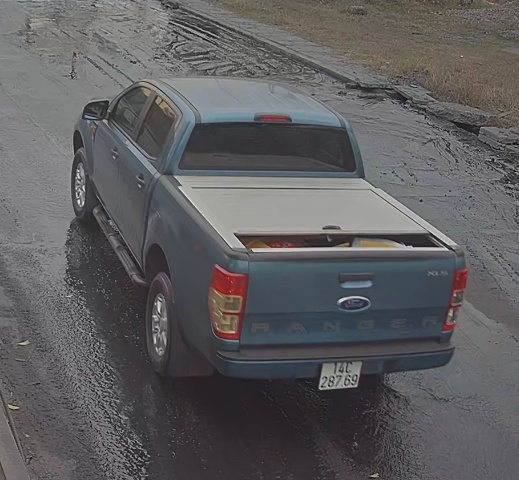vehicle plate: (310, 353, 371, 398)
